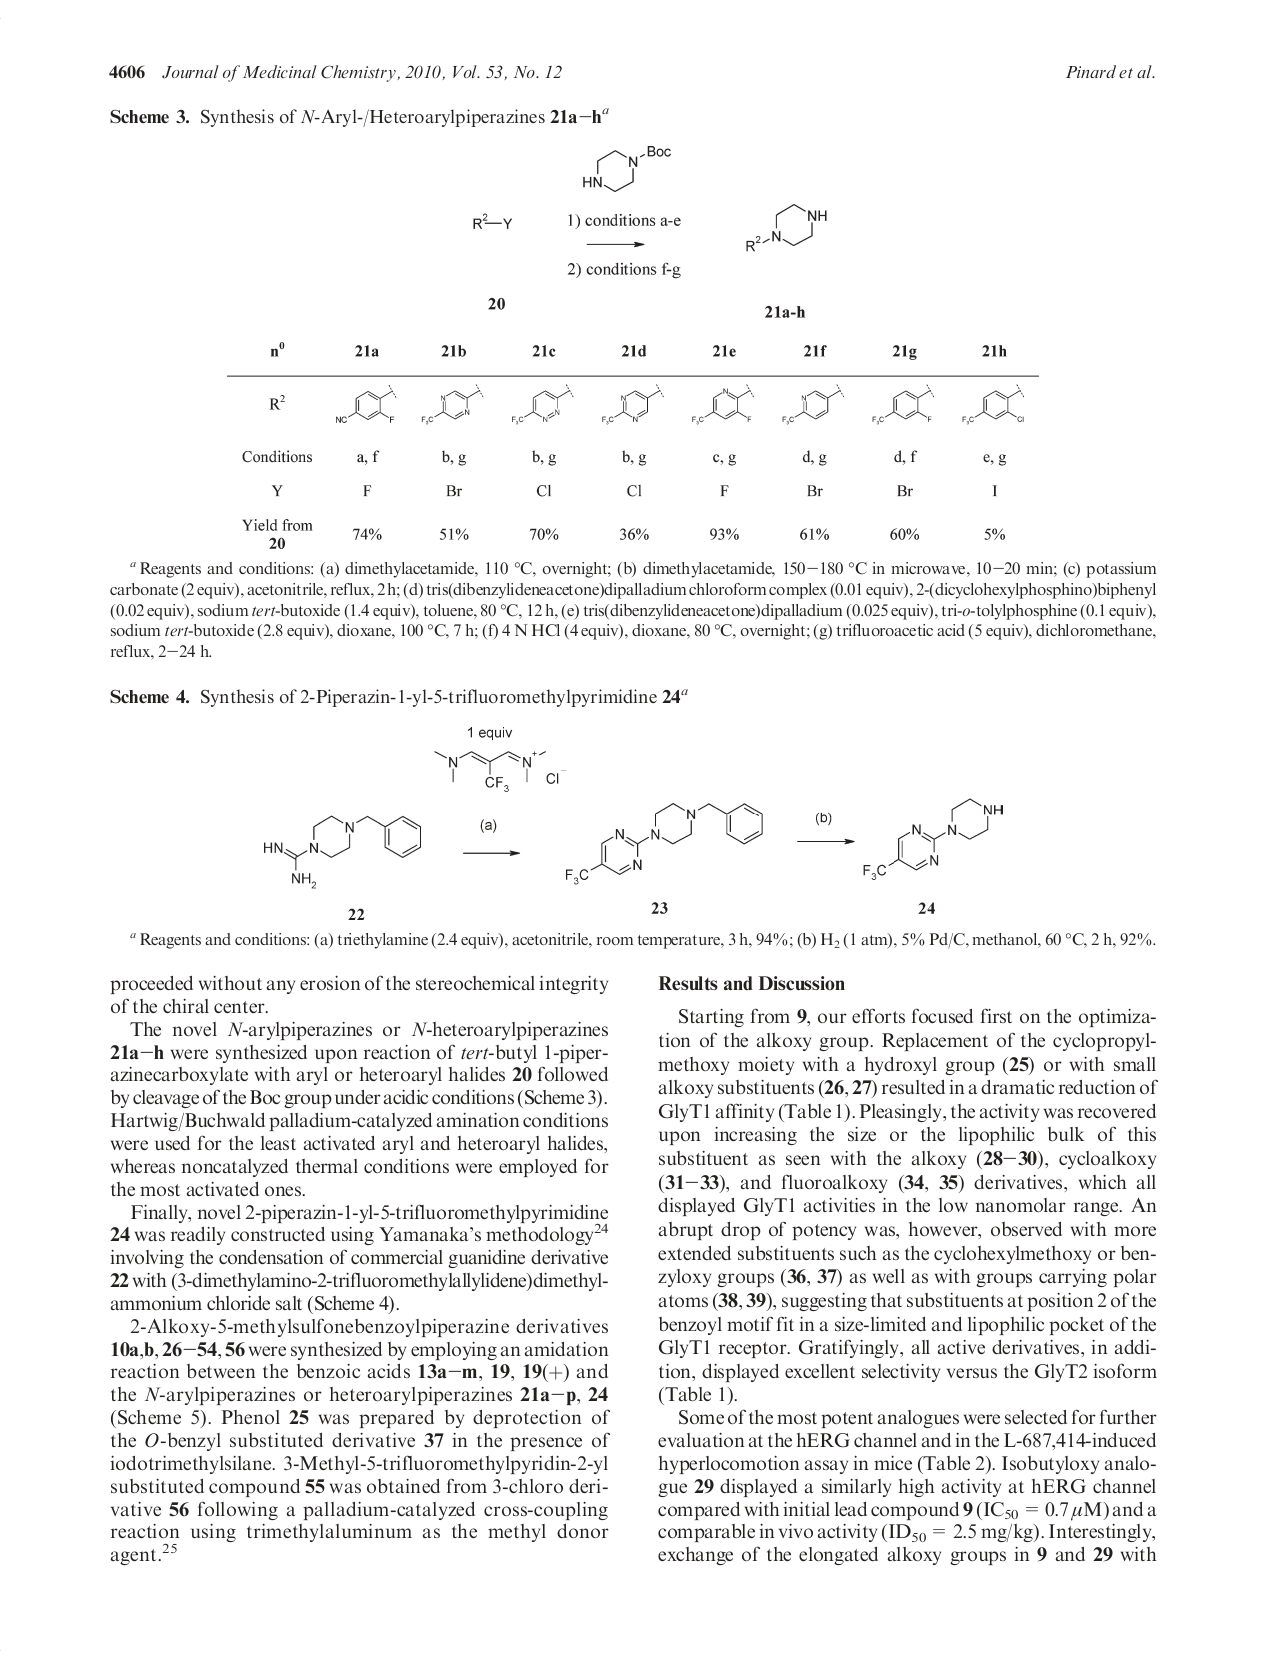exist_molecular: (563, 797, 769, 887), (255, 810, 430, 888), (855, 797, 1004, 887), (574, 138, 676, 195), (735, 198, 832, 255), (430, 745, 555, 789), (330, 379, 411, 430), (771, 382, 856, 428), (505, 380, 581, 431), (594, 380, 668, 431), (959, 382, 1032, 431), (871, 380, 942, 431), (688, 382, 759, 430), (422, 380, 483, 428)
